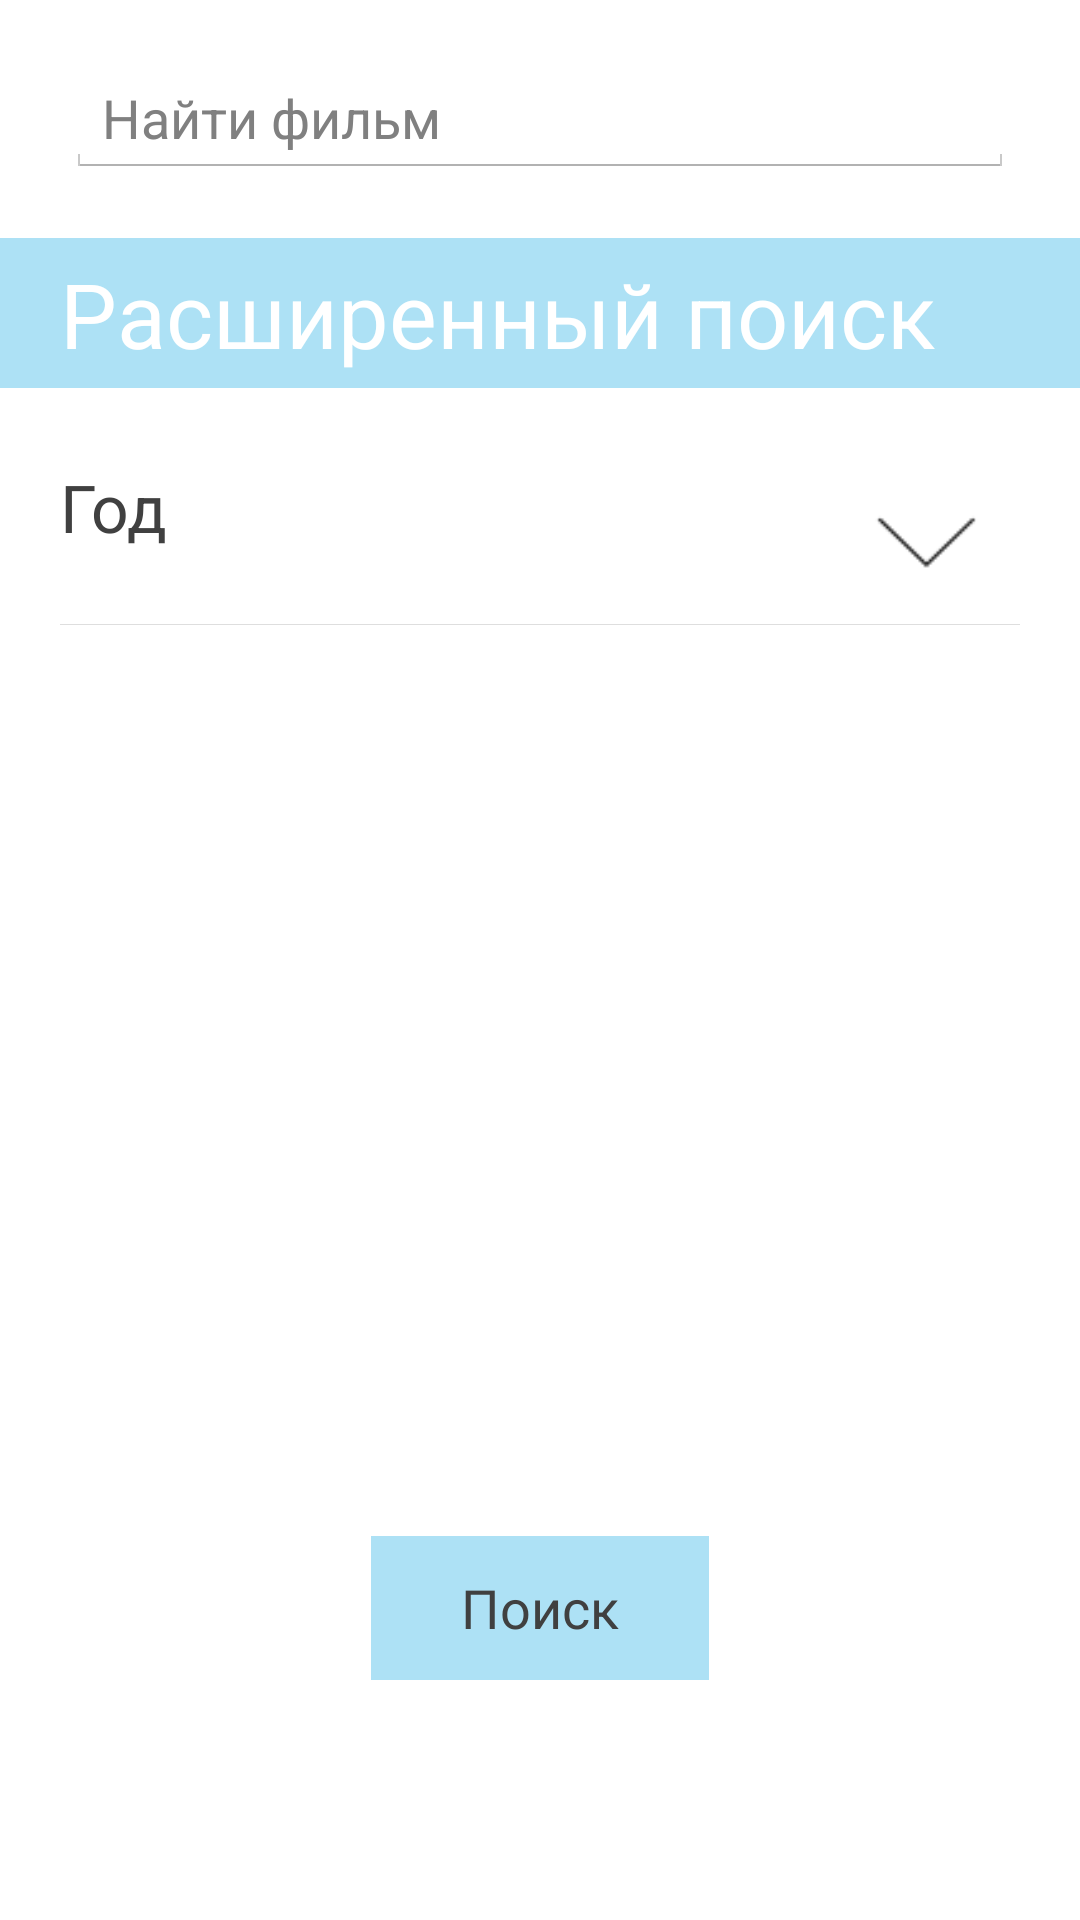

Where icons sit on this 1080x1920 app screen, as (left=x1, top=y1, right=x2, bottom=y2):
arr down: (left=877, top=518, right=976, bottom=568)
